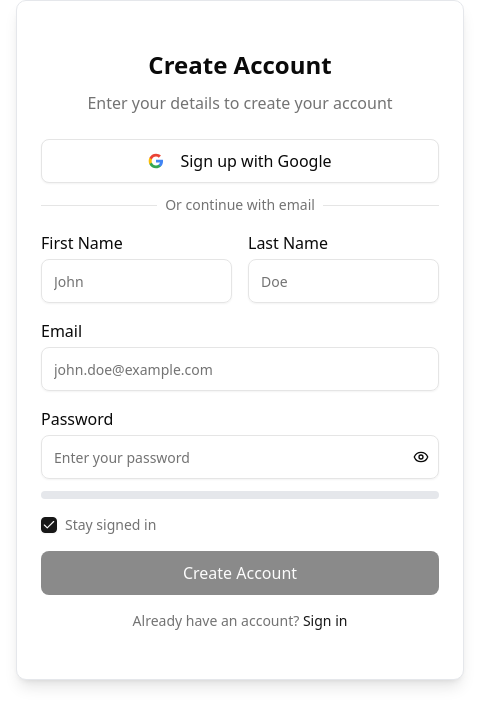
Scenario: RegistrationForm › shows error when fields are blank
The image size is (481, 720).
Type "p" into the password field labelled "Password" at (240, 457), box top-left (41, 435), bottom-right (439, 479)
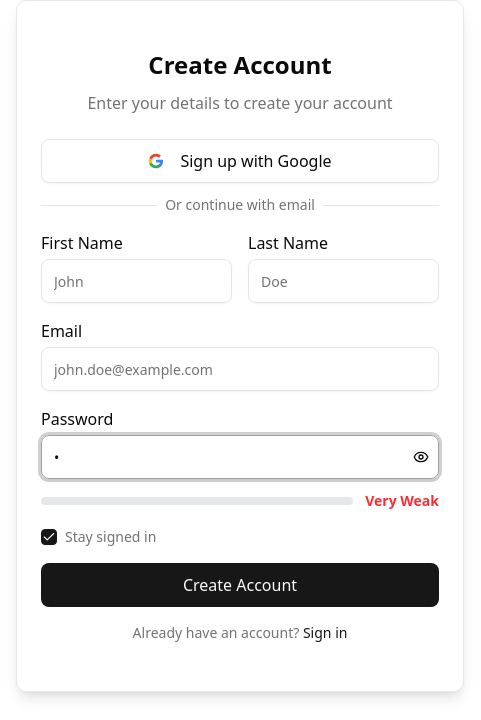
Click the button "Create Account" at (240, 585), box top-left (41, 563), bottom-right (439, 607)
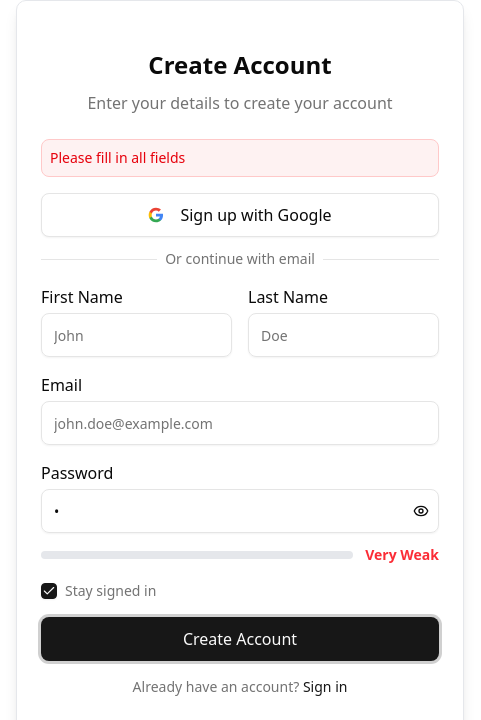
Check: the text "Please fill in all fields" is shown, box top-left (41, 139), bottom-right (439, 177)
